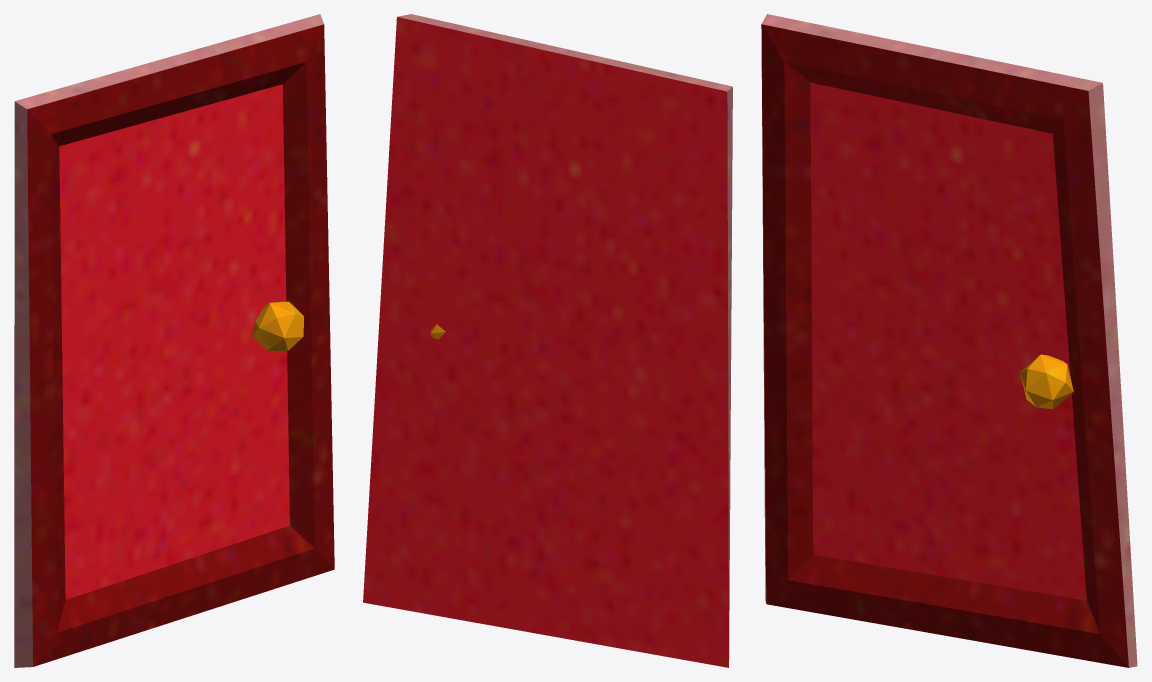
The model's file is cabinDoor.FBX.
3 views of the same model, side by side, from view 1: azimuth 30°, elevation 25°; view 2: azimuth 150°, elevation 25°; view 3: azimuth 330°, elevation 25° (orthographic). The views are drawn at different scales.
Visible parts, largest first — view 1: Box01; view 2: Box01; view 3: Box01.
Boxes of the visible parts, <box> form: Box01: <box>14,14,334,667</box>; Box01: <box>363,14,732,667</box>; Box01: <box>761,14,1137,667</box>.
Size of the model in its own units: 27.87 by 5.01 by 45.16.
Materials: 1 (1 with a texture image).
